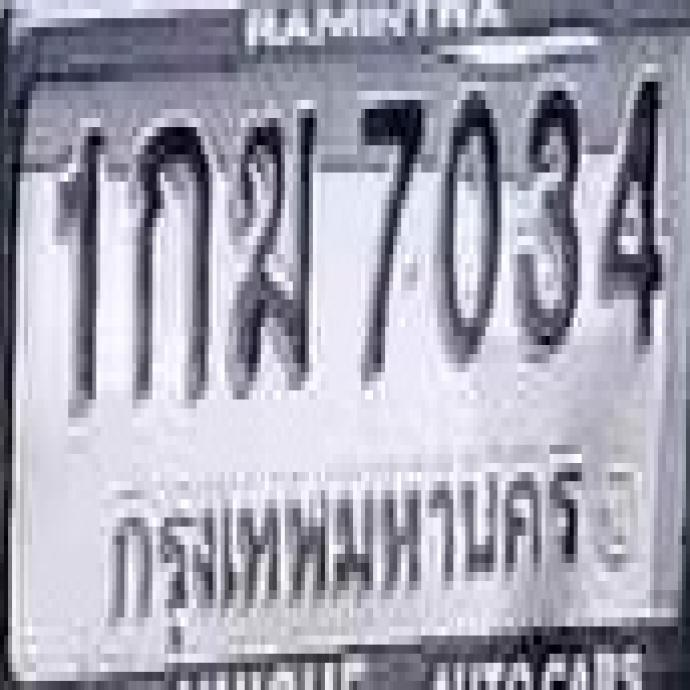0: (435, 84, 498, 357)
1: (53, 120, 99, 403)
3: (513, 80, 577, 346)
4: (596, 68, 658, 345)
7: (357, 91, 421, 374)
A01: (128, 116, 207, 396)
A06: (228, 103, 312, 381)
BKK: (99, 446, 590, 637)
